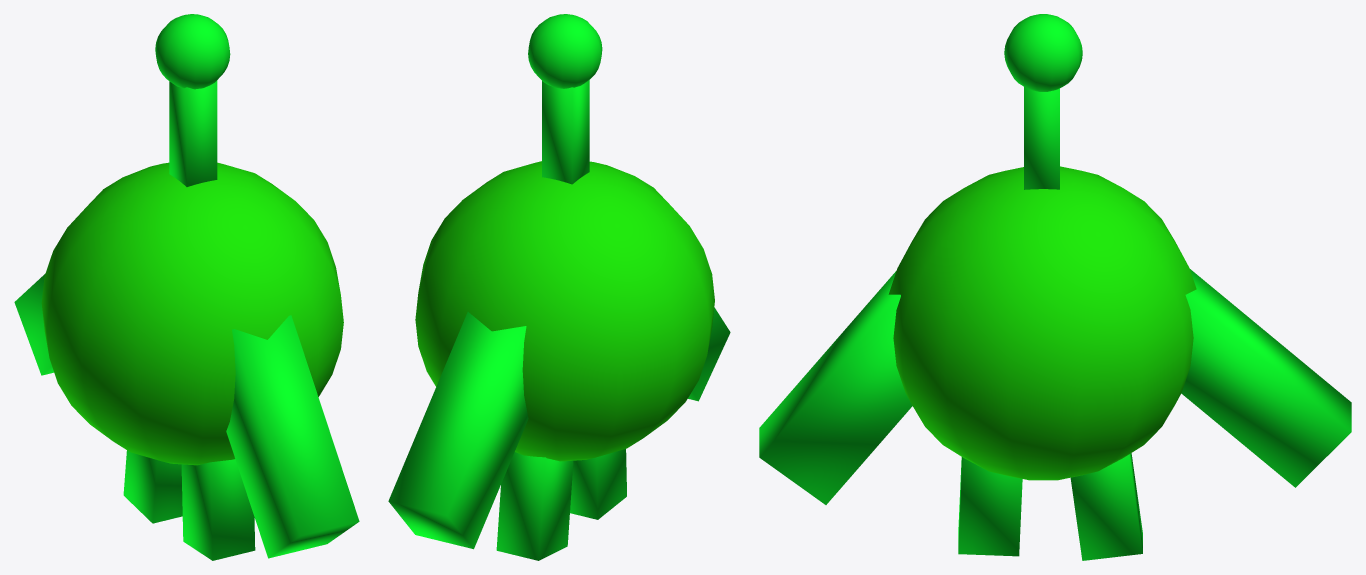
The model's file is mainalien.fbx.
The picture shows the model from 3 angles, left to right: view 1: azimuth 30°, elevation 25°; view 2: azimuth 150°, elevation 25°; view 3: azimuth 270°, elevation 25°; orthographic projection. The views are drawn at different scales.
Parts seen in each view (by area): view 1: Sphere, Sphere.001; view 2: Sphere, Sphere.001; view 3: Sphere, Sphere.001.
Part boxes in pixels (box(x1,y1,x2,y2)): Sphere: box(41, 162, 343, 465); Sphere.001: box(14, 14, 359, 560); Sphere: box(415, 161, 714, 461); Sphere.001: box(388, 14, 730, 560); Sphere: box(888, 166, 1196, 480); Sphere.001: box(759, 14, 1351, 560).
Bounding box in the file's own units: 195 × 372 × 374.
